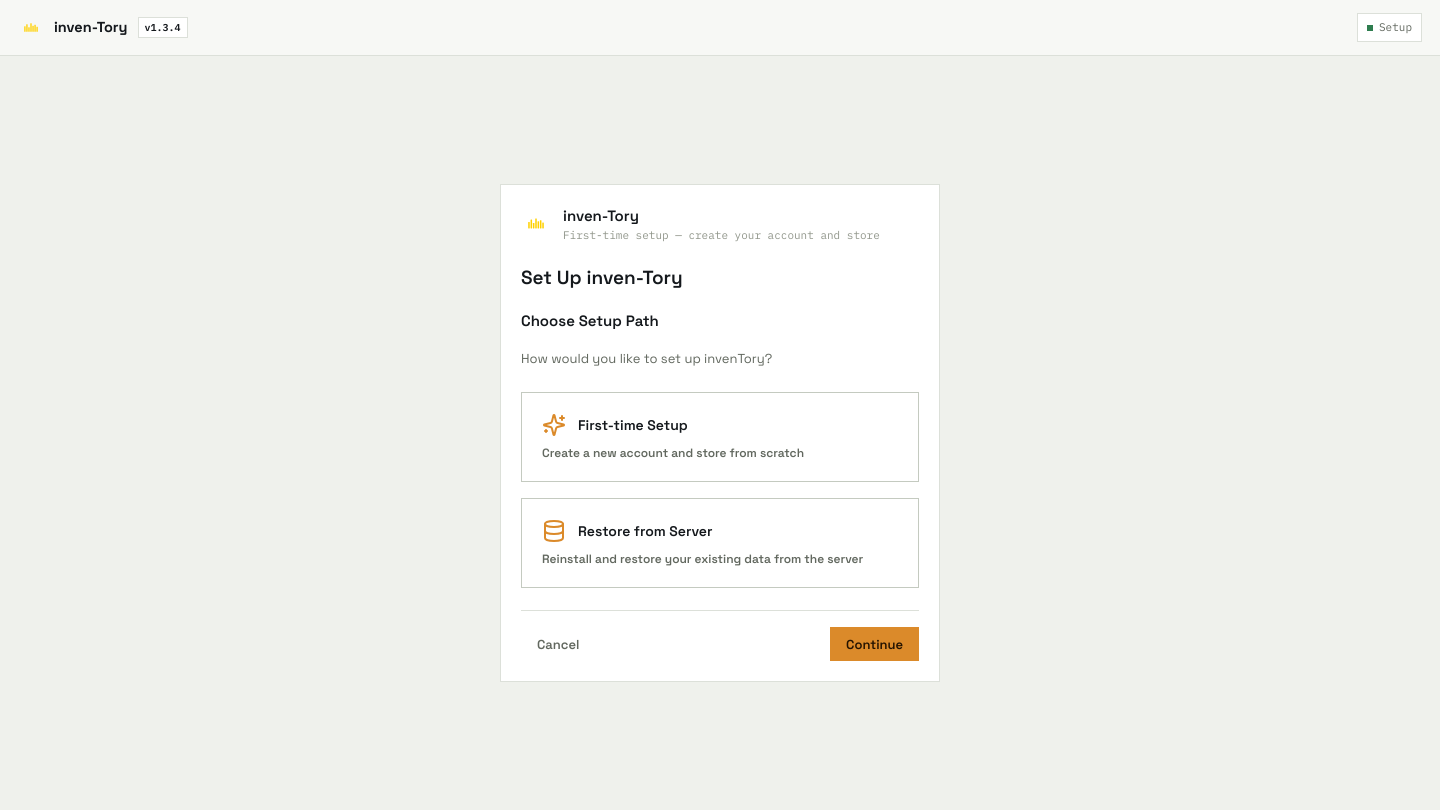
GenesisWizard — Setup Path Selection › navigates to fresh setup when First-time Setup is clicked
Click the text "First-time Setup" at (633, 425), box [578,416,688,434]
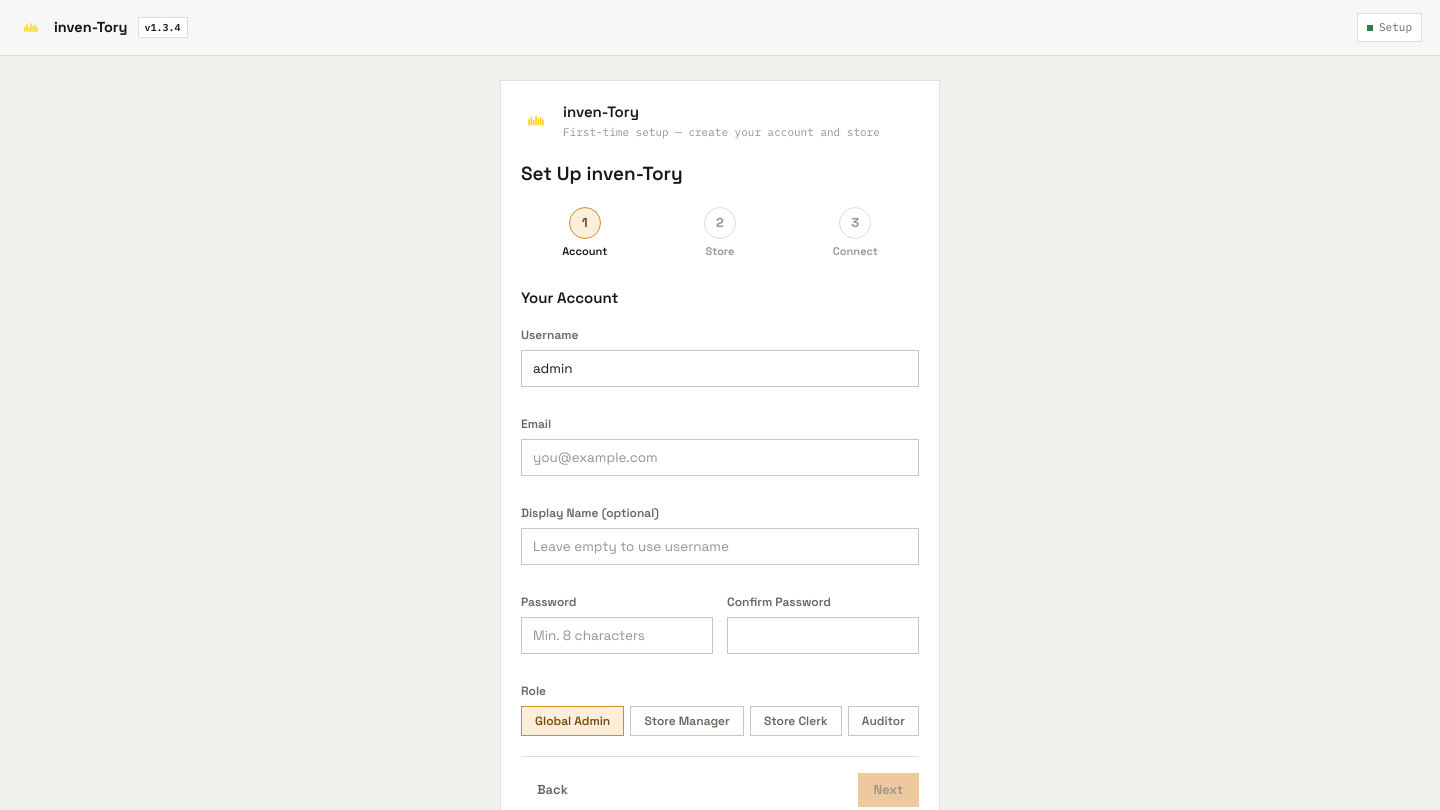
Now the heading "Your Account" is shown, box [521,288,618,307]
